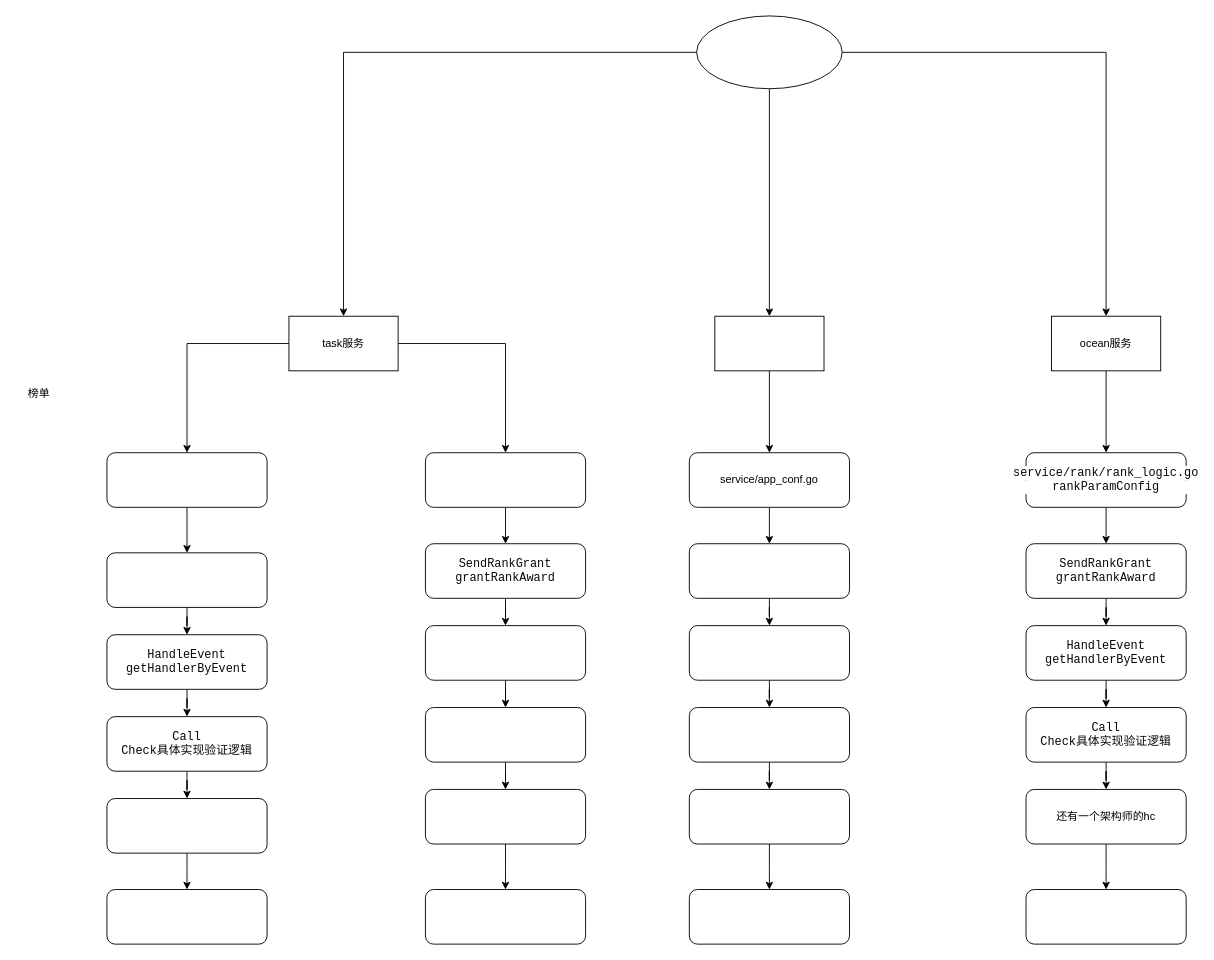
Image size: 1214x960. Some labels were removed from this diagram. The shapes that lost their labels are listed below. From the top down, each one's centre as x and y in pixels, then its label:
At point (769, 52): "SKR".
At point (769, 343): "rank服务 MingRiGeWang干啥的".
At point (186, 479): "发送礼物入口 consumer_task_sendgift_event".
At point (505, 479): "发送礼物定时任务入口 task/taskRun ranks. NewRankServiceV2 (). Init ( c )".
At point (186, 579): "ProcessSendGiftEvent".
